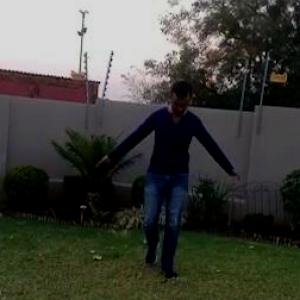land: (102, 73, 251, 295)
